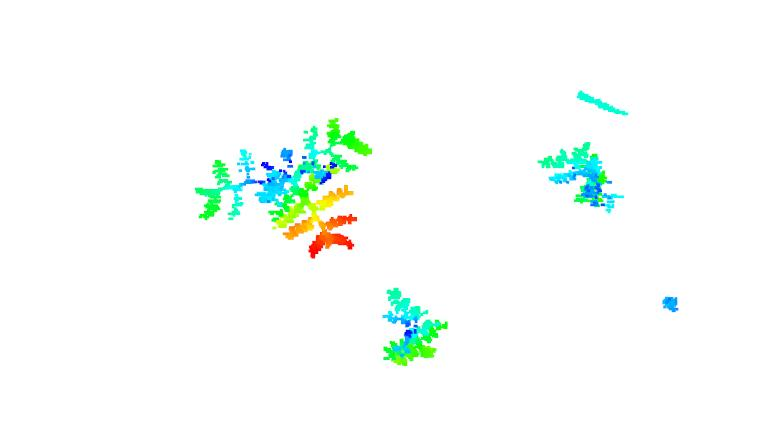chickpea: (191, 120, 364, 255), (541, 138, 619, 212), (377, 289, 445, 367)
